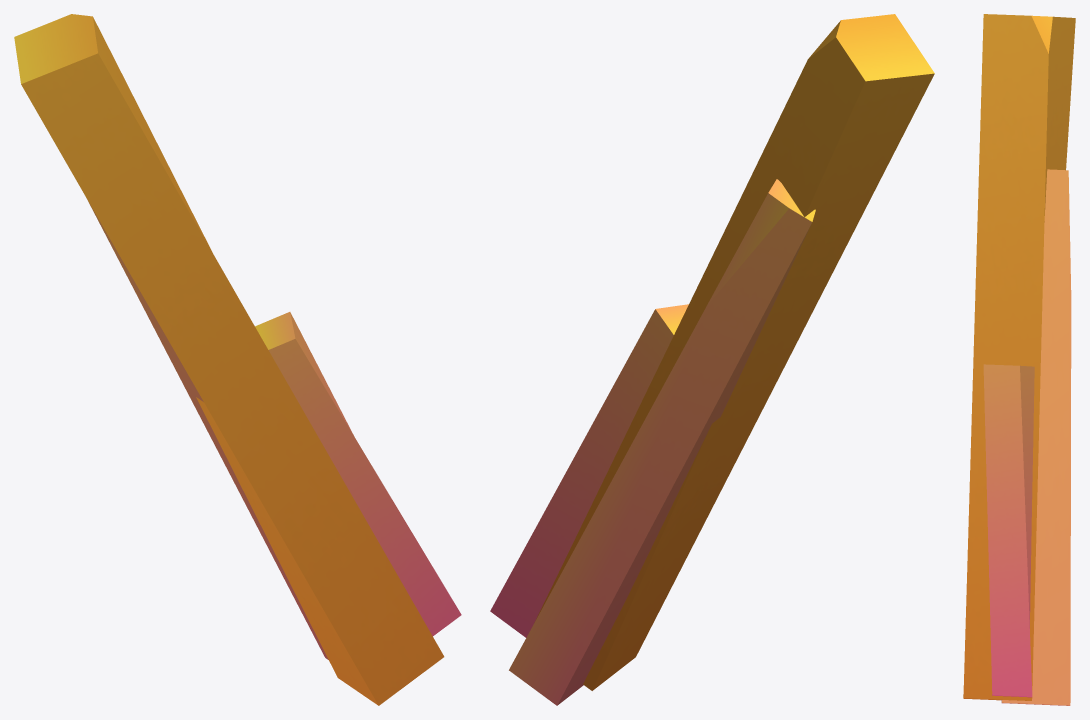
The model's file is SM_RockFormation.fbx.
The picture shows the model from 3 angles, left to right: view 1: azimuth 30°, elevation 25°; view 2: azimuth 150°, elevation 25°; view 3: azimuth 270°, elevation 25°; orthographic projection. The views are drawn at different scales.
Parts seen in each view (by area): view 1: Cube.001, Cube.005, Cube.004; view 2: Cube.001, Cube.004, Cube.005; view 3: Cube.001, Cube.004, Cube.005.
Part boxes in pixels (box(x1,y1,x2,y2)): Cube.001: box(14, 14, 444, 705); Cube.005: box(255, 312, 461, 636); Cube.004: box(88, 201, 328, 659); Cube.001: box(534, 14, 934, 690); Cube.004: box(509, 179, 815, 705); Cube.005: box(490, 304, 688, 637); Cube.001: box(963, 14, 1075, 700); Cube.004: box(1001, 169, 1071, 705); Cube.005: box(983, 364, 1034, 697).
Size of the model in its own units: 6714 by 24001 by 38684.
